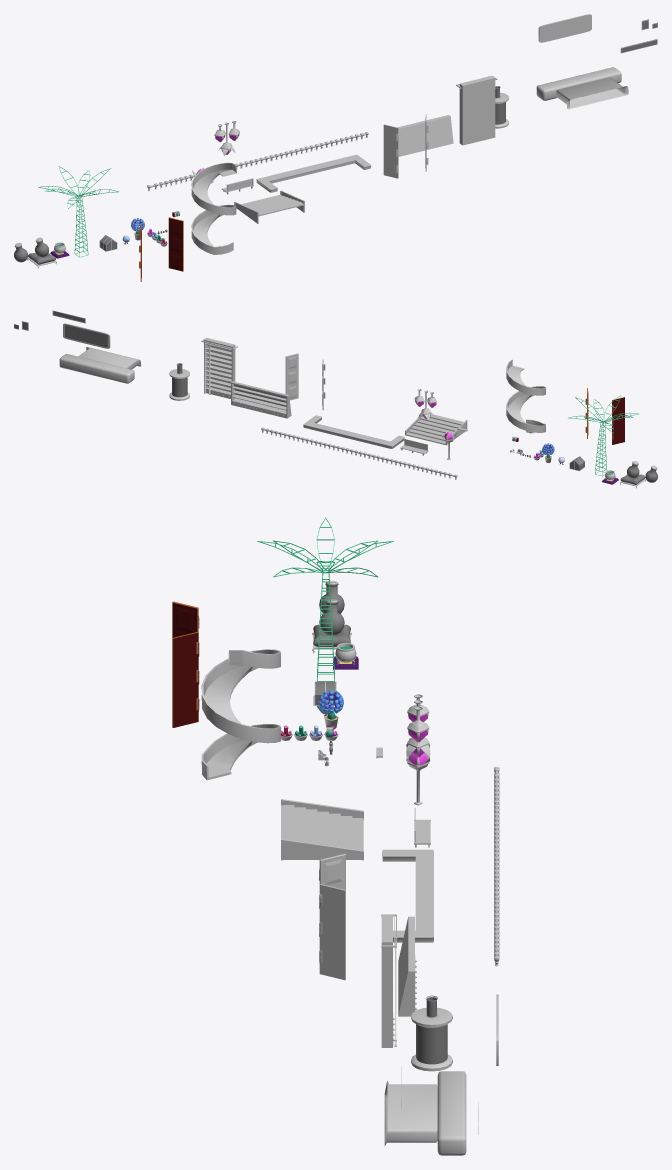
The model's file is Potion_Shop_props.fbx.
3 renders of one model, top to bottom at view 1: azimuth 30°, elevation 25°; view 2: azimuth 150°, elevation 25°; view 3: azimuth 270°, elevation 25°, orthographic. The views are drawn at different scales.
Visible parts, largest first — view 1: Tube_system, BookShelf_huge, Spiral, Bookshelf_small, Counter, Stairs, Tree_Lightpalm, Doors, Shop_sign, Box002, railings, Tube2 (+1 smaller); view 2: Tube_system, BookShelf_huge, Bookshelf_small, Spiral, Stairs, Counter, railings, Tree_Lightpalm, Shop_sign, Doors, Box002, Tube2 (+2 smaller); view 3: Tube_system, Spiral, Stairs, Box002, Doors, Counter, Tube2, Tree_Lightpalm, BookShelf_huge, Bookshelf_small, railings, Lamp_ceiling.
Part boxes in pixels (bbox=[...]): Tube_system: bbox=[536, 67, 628, 109]; BookShelf_huge: bbox=[456, 75, 497, 145]; Spiral: bbox=[191, 162, 236, 254]; Bookshelf_small: bbox=[397, 115, 453, 156]; Counter: bbox=[256, 154, 371, 192]; Stairs: bbox=[234, 190, 304, 223]; Tree_Lightpalm: bbox=[38, 166, 118, 257]; Doors: bbox=[383, 114, 428, 178]; Shop_sign: bbox=[538, 14, 591, 42]; Box002: bbox=[139, 217, 183, 281]; railings: bbox=[147, 132, 368, 191]; Tube2: bbox=[495, 86, 508, 128]; Tube_system: bbox=[59, 347, 141, 383]; BookShelf_huge: bbox=[201, 338, 237, 397]; Bookshelf_small: bbox=[231, 381, 291, 418]; Spiral: bbox=[506, 362, 545, 433]; Stairs: bbox=[405, 414, 467, 445]; Counter: bbox=[303, 415, 404, 448]; railings: bbox=[261, 427, 457, 479]; Tree_Lightpalm: bbox=[568, 395, 638, 476]; Shop_sign: bbox=[63, 323, 110, 348]; Doors: bbox=[285, 353, 325, 410]; Box002: bbox=[585, 388, 624, 444]; Tube2: bbox=[169, 363, 189, 400]; Tube_system: bbox=[384, 1071, 466, 1155]; Spiral: bbox=[201, 649, 280, 780]; Stairs: bbox=[281, 799, 363, 860]; Box002: bbox=[172, 601, 199, 727]; Doors: bbox=[319, 853, 345, 980]; Counter: bbox=[382, 849, 433, 942]; Tube2: bbox=[411, 995, 452, 1071]; Tree_Lightpalm: bbox=[257, 517, 393, 681]; BookShelf_huge: bbox=[381, 914, 396, 1047]; Bookshelf_small: bbox=[398, 916, 416, 1016]; railings: bbox=[494, 767, 499, 966]; Lamp_ceiling: bbox=[406, 694, 430, 757].
Size of the model in its own units: 3304 by 367 by 772.
